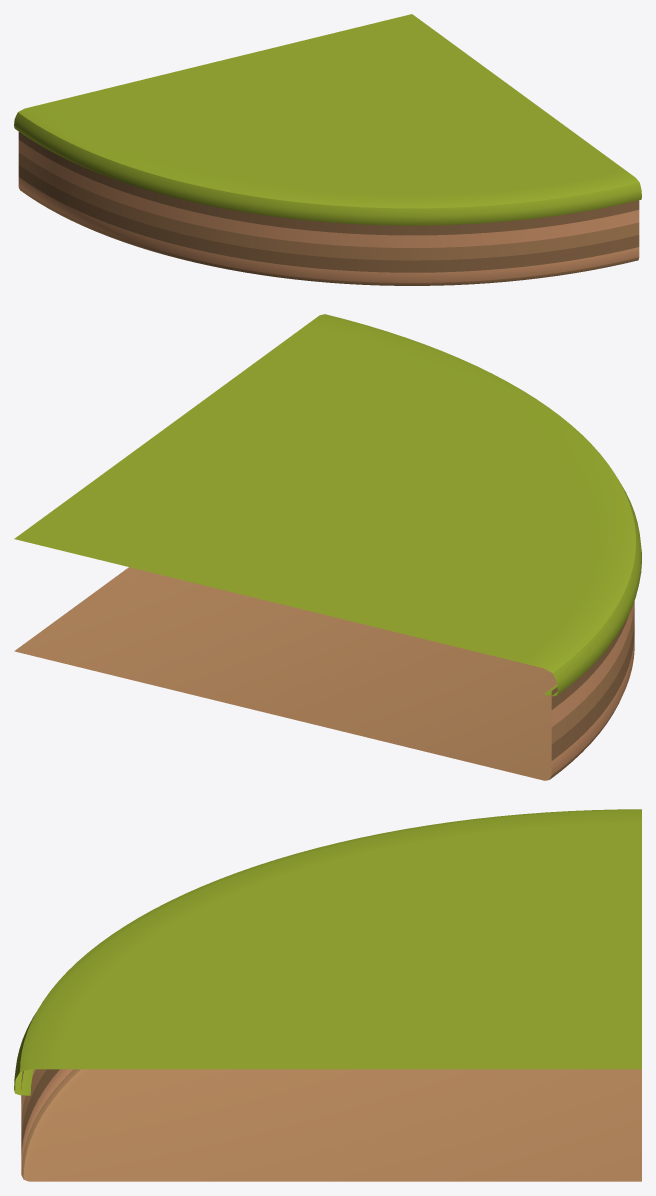
Rendered from platform_grass_corner_round5.gltf.
3 renders of one model, top to bottom at view 1: azimuth 30°, elevation 25°; view 2: azimuth 150°, elevation 25°; view 3: azimuth 270°, elevation 25°, orthographic. The views are drawn at different scales.
Visible parts, largest first — view 1: Cube_Grass_Corner_Round5; view 2: Cube_Grass_Corner_Round5; view 3: Cube_Grass_Corner_Round5.
Part boxes in pixels (box(x1,y1,x2,y2)): Cube_Grass_Corner_Round5: box(14, 14, 641, 285); Cube_Grass_Corner_Round5: box(14, 314, 641, 780); Cube_Grass_Corner_Round5: box(14, 809, 641, 1181).
Size of the model in its own units: 10.12 by 2 by 10.12.
